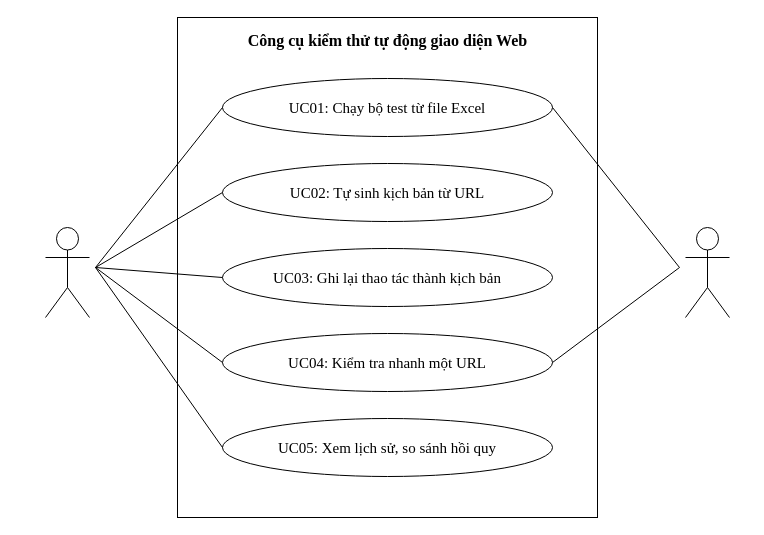
This 764x535 diagram has some shape labels left out. The centre of each missing label's shape, as x and y in pixels:
Hệ thống CI: [707,272]
Người kiểm thử: [67,272]
